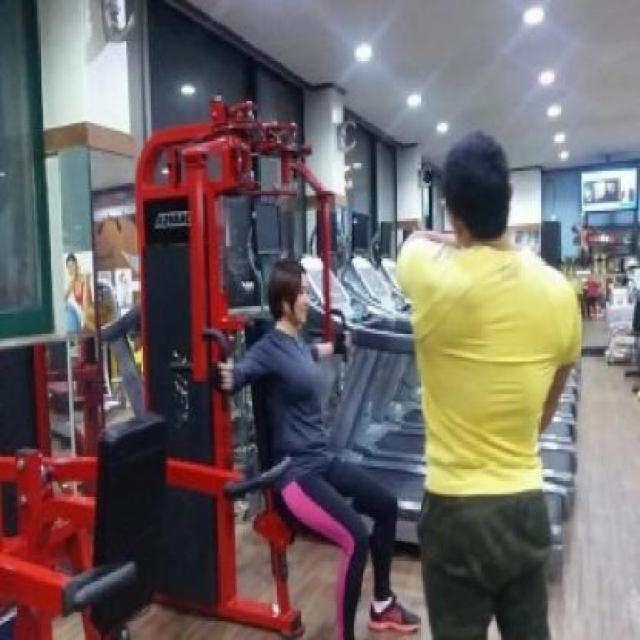chest fly machine: (96, 71, 422, 640)
